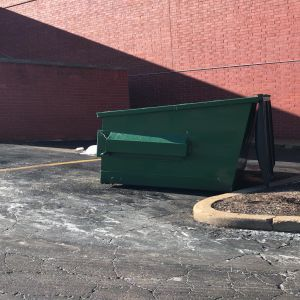Dumpster: (93, 92, 278, 192)
